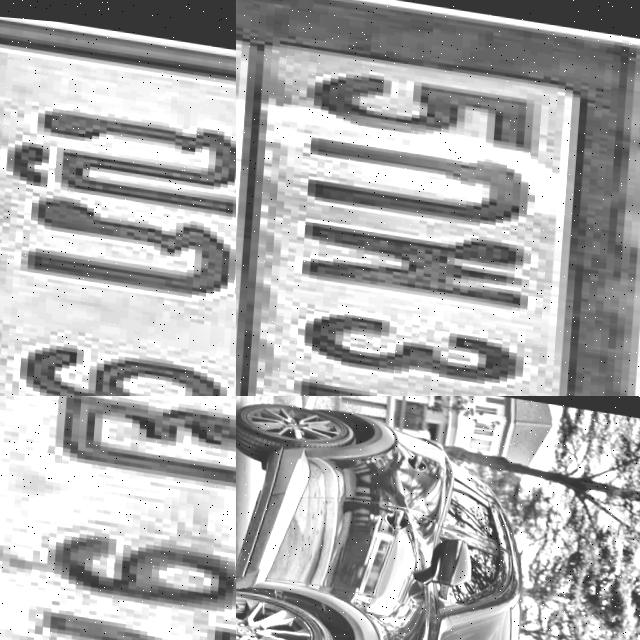license-plate: (236, 0, 633, 396), (0, 0, 236, 396), (0, 396, 236, 640)
